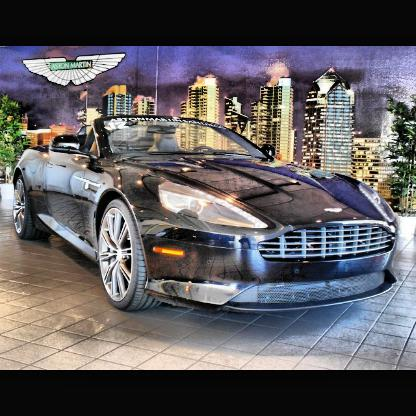Aston Martin Virage Convertible 2012: (12, 112, 405, 320)
